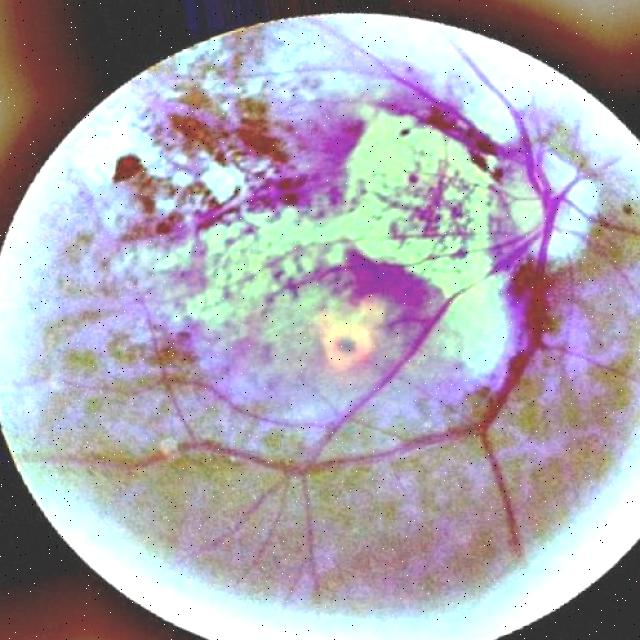Macula: (320, 256, 432, 364)
Nerves: (195, 236, 554, 476), (459, 51, 531, 162), (526, 160, 578, 263)
Optic Disk: (511, 154, 603, 258)
